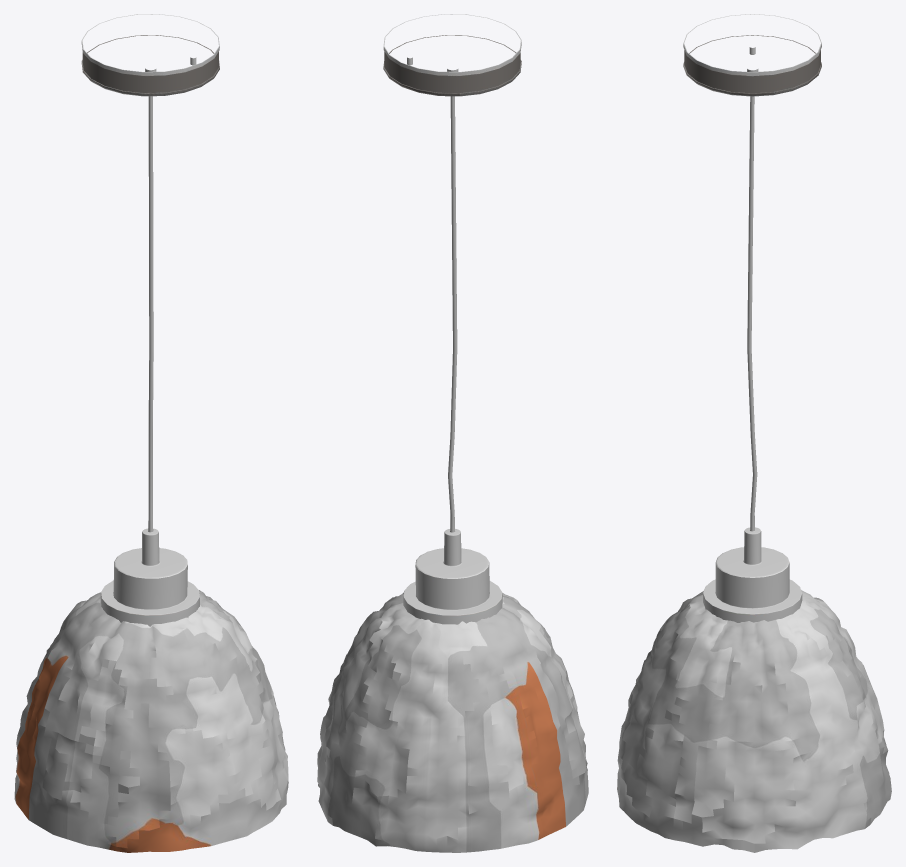
Rendered from B071HSMS5T.glb.
3 views of the same model, side by side, from view 1: azimuth 30°, elevation 25°; view 2: azimuth 150°, elevation 25°; view 3: azimuth 270°, elevation 25° (orthographic).
Parts seen in each view (by area): view 1: "$ABNHACHNFGCAAAAAICBAAAAAAAAAHDJPPNJJ"; view 2: "$ABNHACHNFGCAAAAAICBAAAAAAAAAHDJPPNJJ"; view 3: "$ABNHACHNFGCAAAAAICBAAAAAAAAAHDJPPNJJ".
Boxes of the visible parts, bbox=[...] form: "$ABNHACHNFGCAAAAAICBAAAAAAAAAHDJPPNJJ": bbox=[14, 14, 288, 852]; "$ABNHACHNFGCAAAAAICBAAAAAAAAAHDJPPNJJ": bbox=[317, 14, 588, 852]; "$ABNHACHNFGCAAAAAICBAAAAAAAAAHDJPPNJJ": bbox=[617, 14, 891, 852].
Size of the model in its own units: 0.4959 by 1.51 by 0.5001.
Materials: 1 (1 with a texture image).
